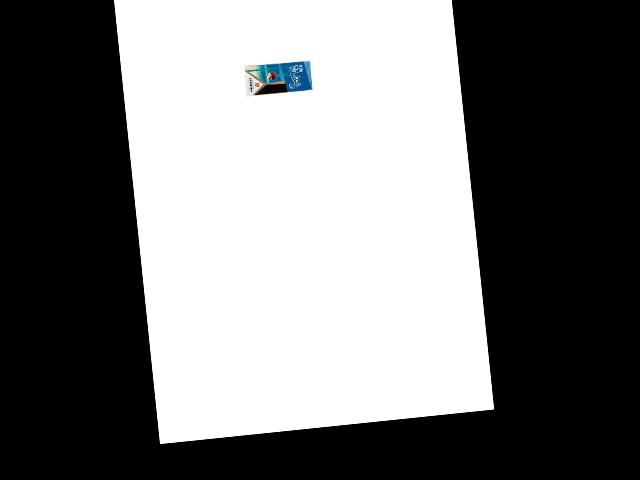chocolate: (241, 58, 314, 98)
